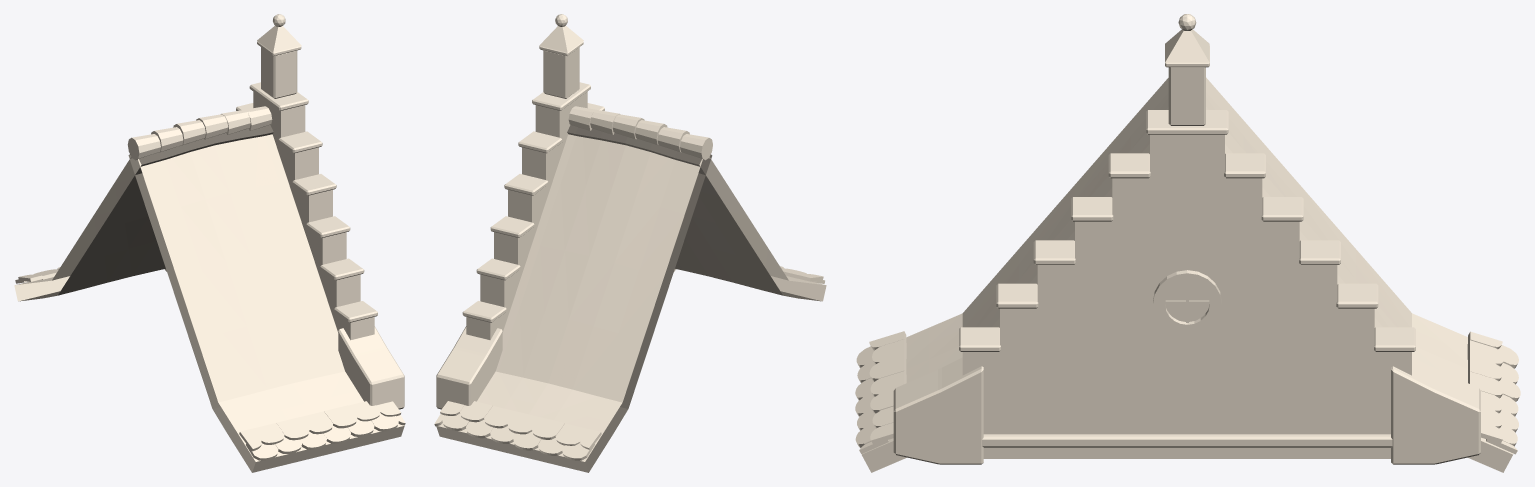
File: SM_VK_Roof_Gable_Stepped.fbx
3 renders of one model, left to right at view 1: azimuth 30°, elevation 25°; view 2: azimuth 150°, elevation 25°; view 3: azimuth 270°, elevation 25°, orthographic. The views are drawn at different scales.
Visible parts, largest first — view 1: SM_VK_Roof_Gable_Stepped.001; view 2: SM_VK_Roof_Gable_Stepped.001; view 3: SM_VK_Roof_Gable_Stepped.001.
Part boxes in pixels (x1,y1,x2,y2): SM_VK_Roof_Gable_Stepped.001: (14,14,405,472); SM_VK_Roof_Gable_Stepped.001: (434,14,826,472); SM_VK_Roof_Gable_Stepped.001: (855,14,1520,472).
Size of the model in its own units: 3.39 by 6.71 by 8.88.
